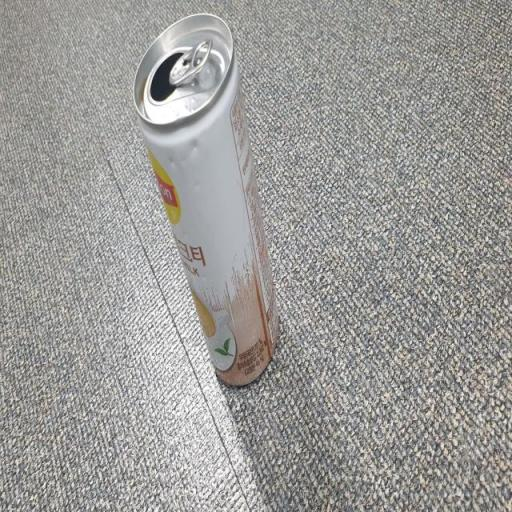metal: (128, 0, 294, 408)
